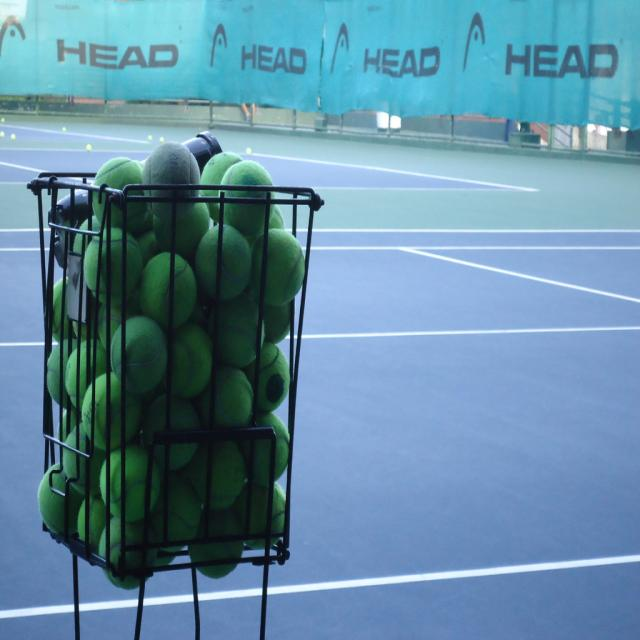Tennis ball: (34, 144, 308, 592)
